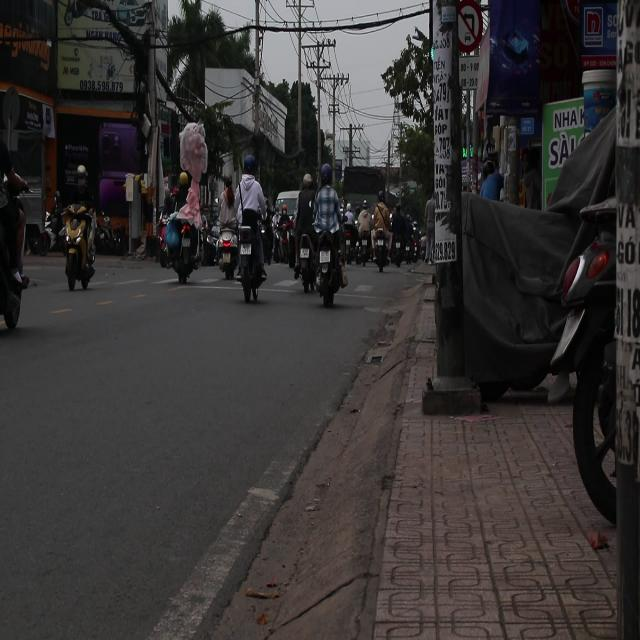motorbike: (291, 191, 337, 301), (158, 195, 203, 282), (58, 205, 98, 292), (233, 218, 268, 303), (292, 225, 322, 297), (215, 224, 240, 286), (372, 224, 390, 273)
